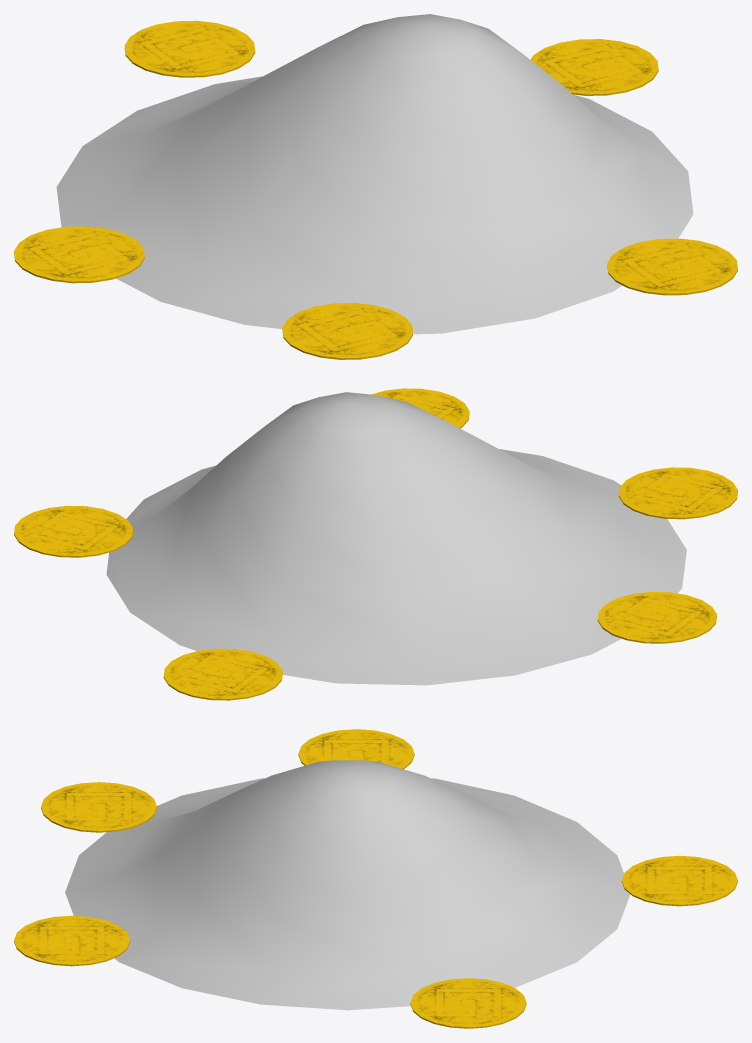
The model's file is Pile Small.fbx.
3 renders of one model, top to bottom at view 1: azimuth 30°, elevation 25°; view 2: azimuth 150°, elevation 25°; view 3: azimuth 270°, elevation 25°, orthographic. The views are drawn at different scales.
Visible parts, largest first — view 1: Pile_Small, Low_Coin44, Low_Coin42, Low_Coin45, Low_Coin46, Low_Coin43; view 2: Pile_Small, Low_Coin42, Low_Coin45, Low_Coin43, Low_Coin46, Low_Coin44; view 3: Pile_Small, Low_Coin45, Low_Coin44, Low_Coin42, Low_Coin43, Low_Coin46.
Boxes of the visible parts, x1,y1,x2,y2 form: Pile_Small: (56, 14, 693, 334); Low_Coin44: (607, 238, 737, 295); Low_Coin42: (124, 20, 255, 77); Low_Coin45: (282, 303, 412, 359); Low_Coin46: (14, 226, 144, 283); Low_Coin43: (530, 39, 658, 95); Pile_Small: (106, 392, 686, 685); Low_Coin42: (163, 648, 282, 700); Low_Coin45: (618, 467, 737, 519); Low_Coin43: (14, 505, 133, 557); Low_Coin46: (597, 592, 716, 643); Low_Coin44: (371, 388, 469, 428); Pile_Small: (65, 760, 630, 1010); Low_Coin45: (41, 782, 156, 832); Low_Coin44: (14, 915, 130, 966); Low_Coin42: (621, 855, 737, 906); Low_Coin43: (410, 978, 526, 1028); Low_Coin46: (298, 729, 414, 769).
Size of the model in its own units: 22.29 by 4.97 by 22.87.
